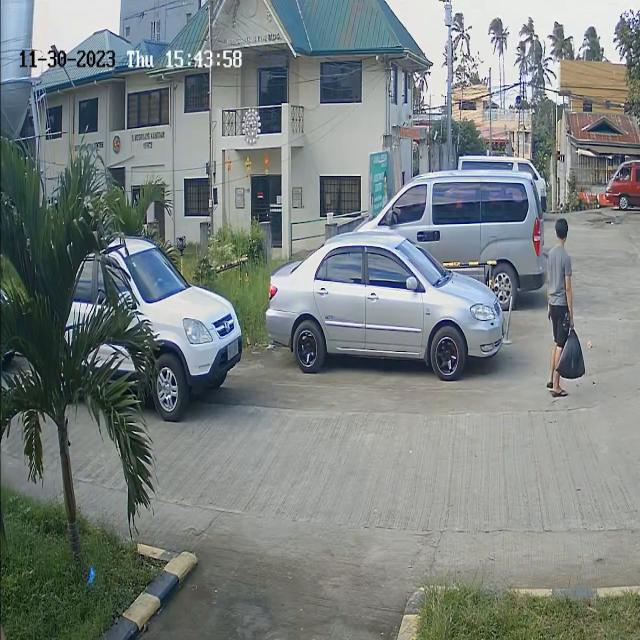garbage: (556, 316, 588, 382)
person: (544, 217, 582, 398)
